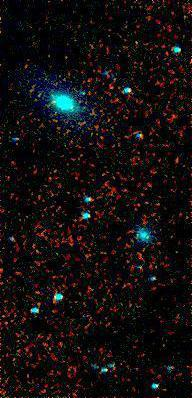star: (47, 247, 77, 277)
